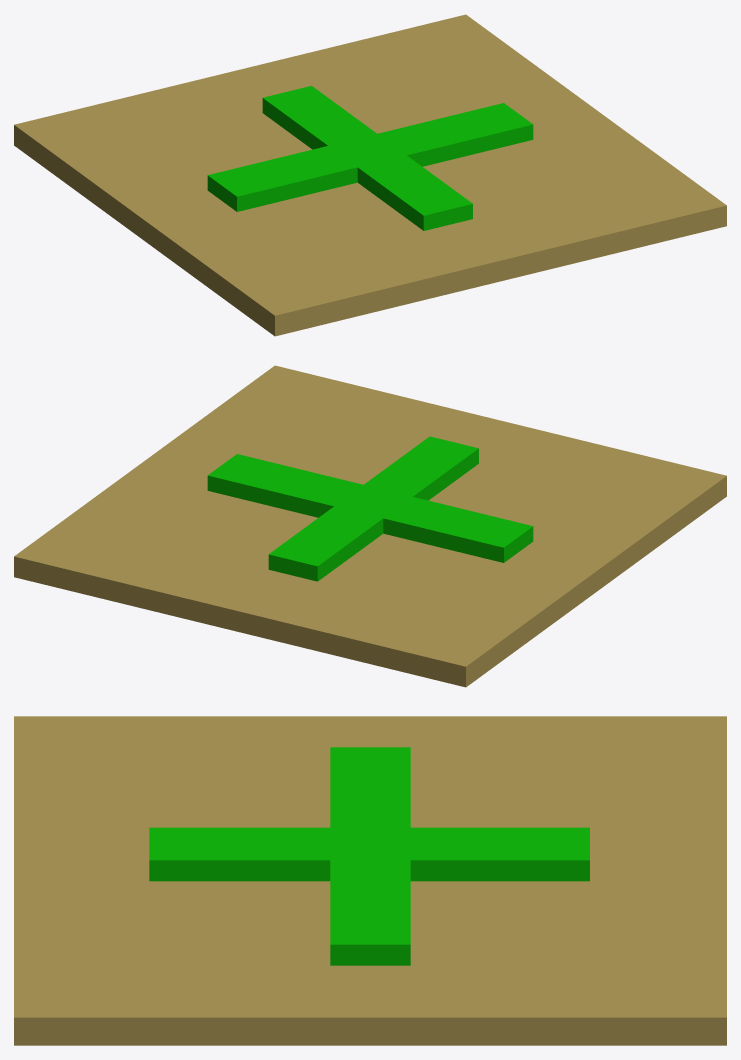
File: powerHealth.fbx
3 renders of one model, top to bottom at view 1: azimuth 30°, elevation 25°; view 2: azimuth 150°, elevation 25°; view 3: azimuth 270°, elevation 25°, orthographic. The views are drawn at different scales.
Visible parts, largest first — view 1: Cube.029; view 2: Cube.029; view 3: Cube.029.
Boxes of the visible parts, x1=… form: Cube.029: x1=14, y1=14, x2=726, y2=336; Cube.029: x1=14, y1=365, x2=726, y2=687; Cube.029: x1=14, y1=716, x2=726, y2=1045.
Bounding box in the file's own units: 611 × 46.48 × 611.
